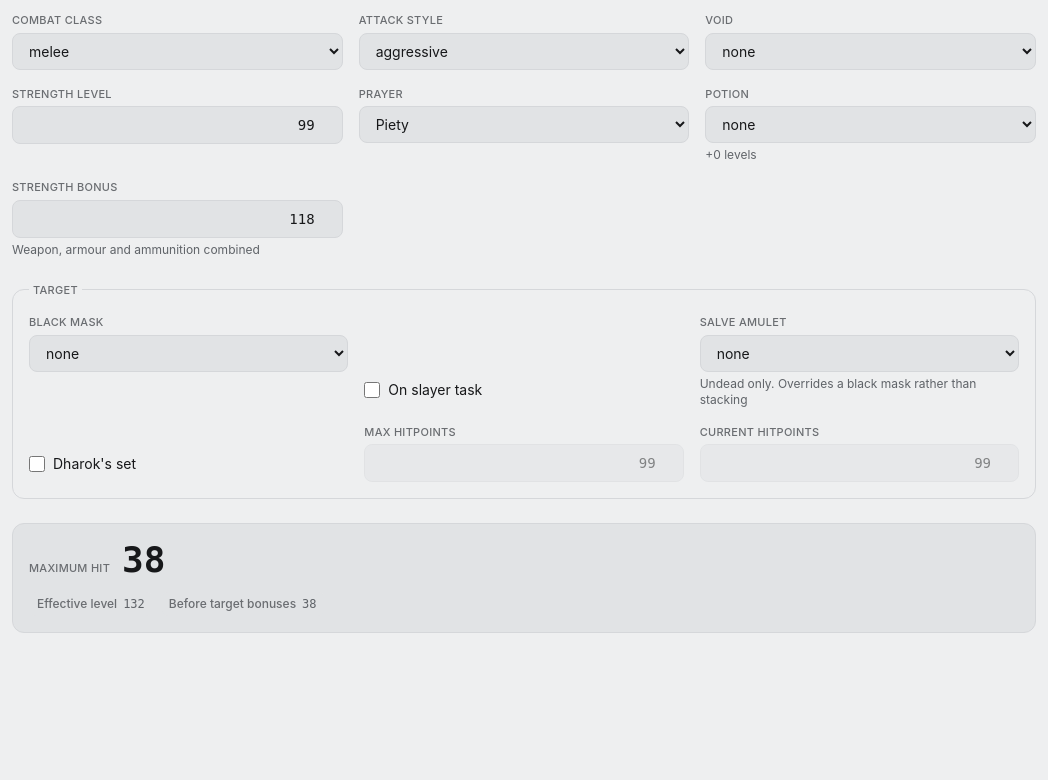
Test: MaxHitCalculator › swaps the form over to ranged inputs when the class changes
This screenshot has width=1048, height=780.
Select "ranged" in the dropdown labelled "Combat class": [177, 51] box [12,32,343,70]
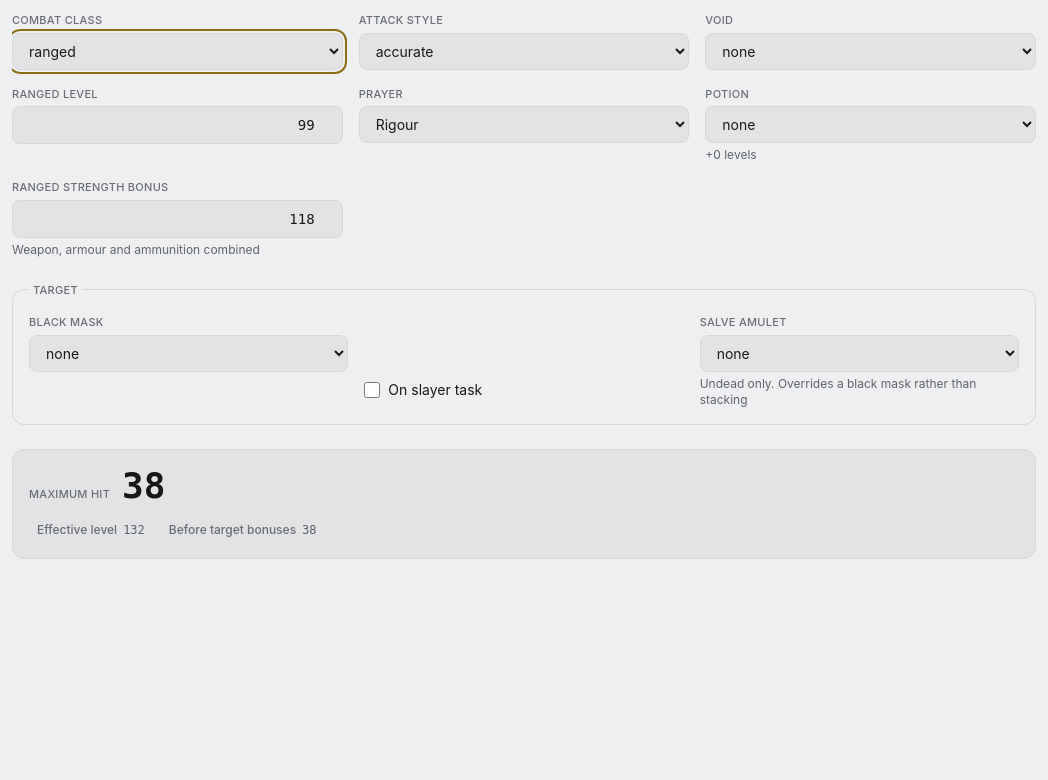
expect the number field labelled "Ranged level" is shown: met, box [12,106,343,144]
expect the label "Strength level" is gone: met
